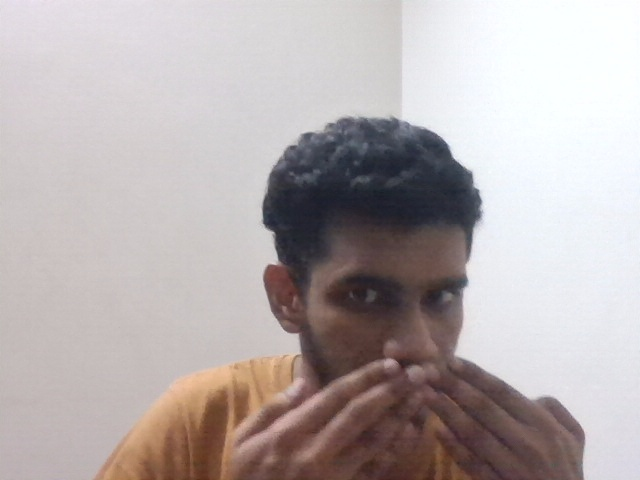thanks: (204, 351, 625, 472)
